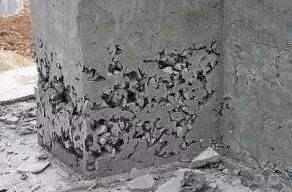Spalling: (33, 38, 222, 172)
